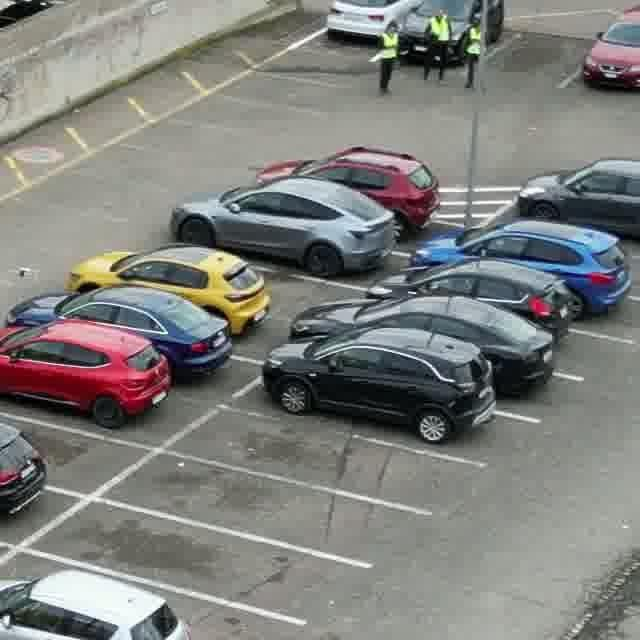Drohne: (8, 267, 39, 279)
